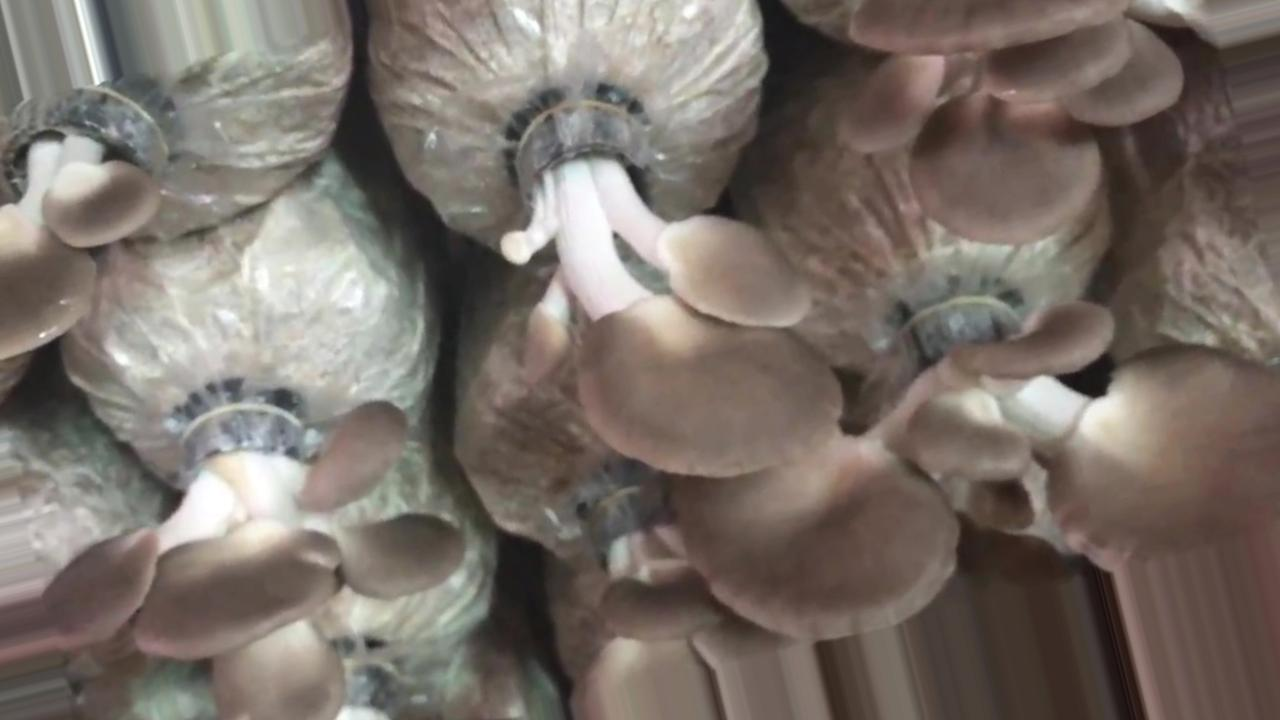nam: (667, 278, 1278, 645), (496, 84, 846, 484), (42, 399, 471, 720), (836, 4, 1280, 246), (1, 77, 193, 357)
